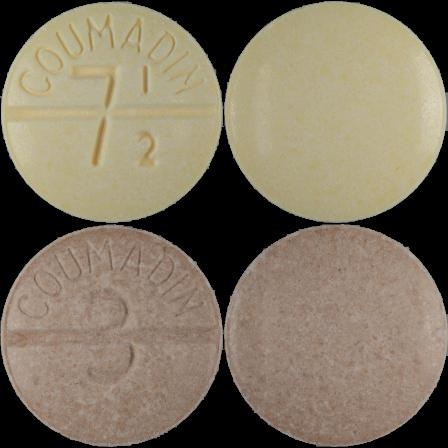55154-7706: (0, 0, 224, 224)
